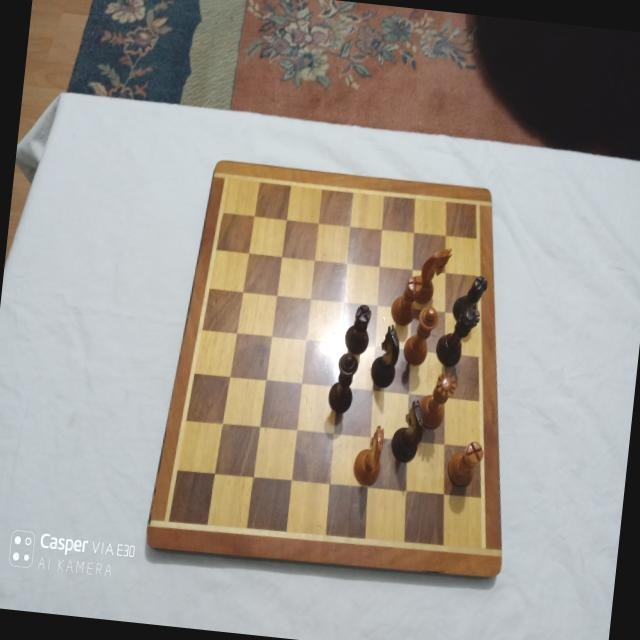black-king: (325, 350, 358, 414)
black-knight: (388, 397, 427, 463), (368, 322, 402, 388)
black-queen: (433, 299, 481, 369)
black-rook: (450, 272, 488, 324), (343, 302, 372, 354)
white-king: (401, 302, 439, 366)
white-knight: (410, 244, 452, 306), (350, 422, 385, 486)
white-queen: (416, 368, 458, 431)
white-rook: (445, 438, 484, 489), (389, 273, 423, 327)
